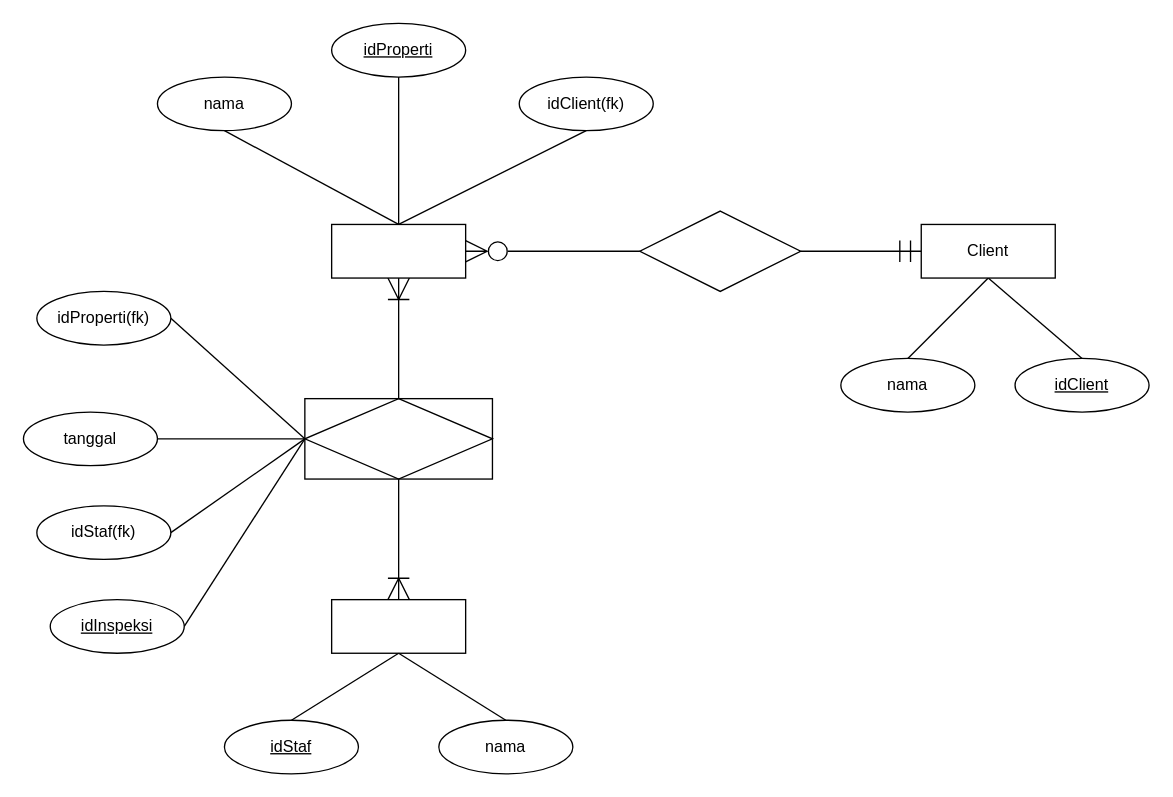
The diagram is 1173 pixels wide and 797 high, and some of its shapes have lost their labels. Each missing label, with the centre of its shape:
"Inspeksi" goes at [398,438].
"Properti" goes at [398,250].
"Sewa" goes at [720,250].
"Staff" goes at [398,625].
